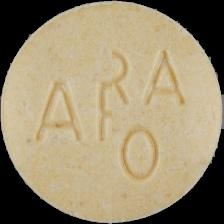60505-1323: (0, 0, 224, 224)
